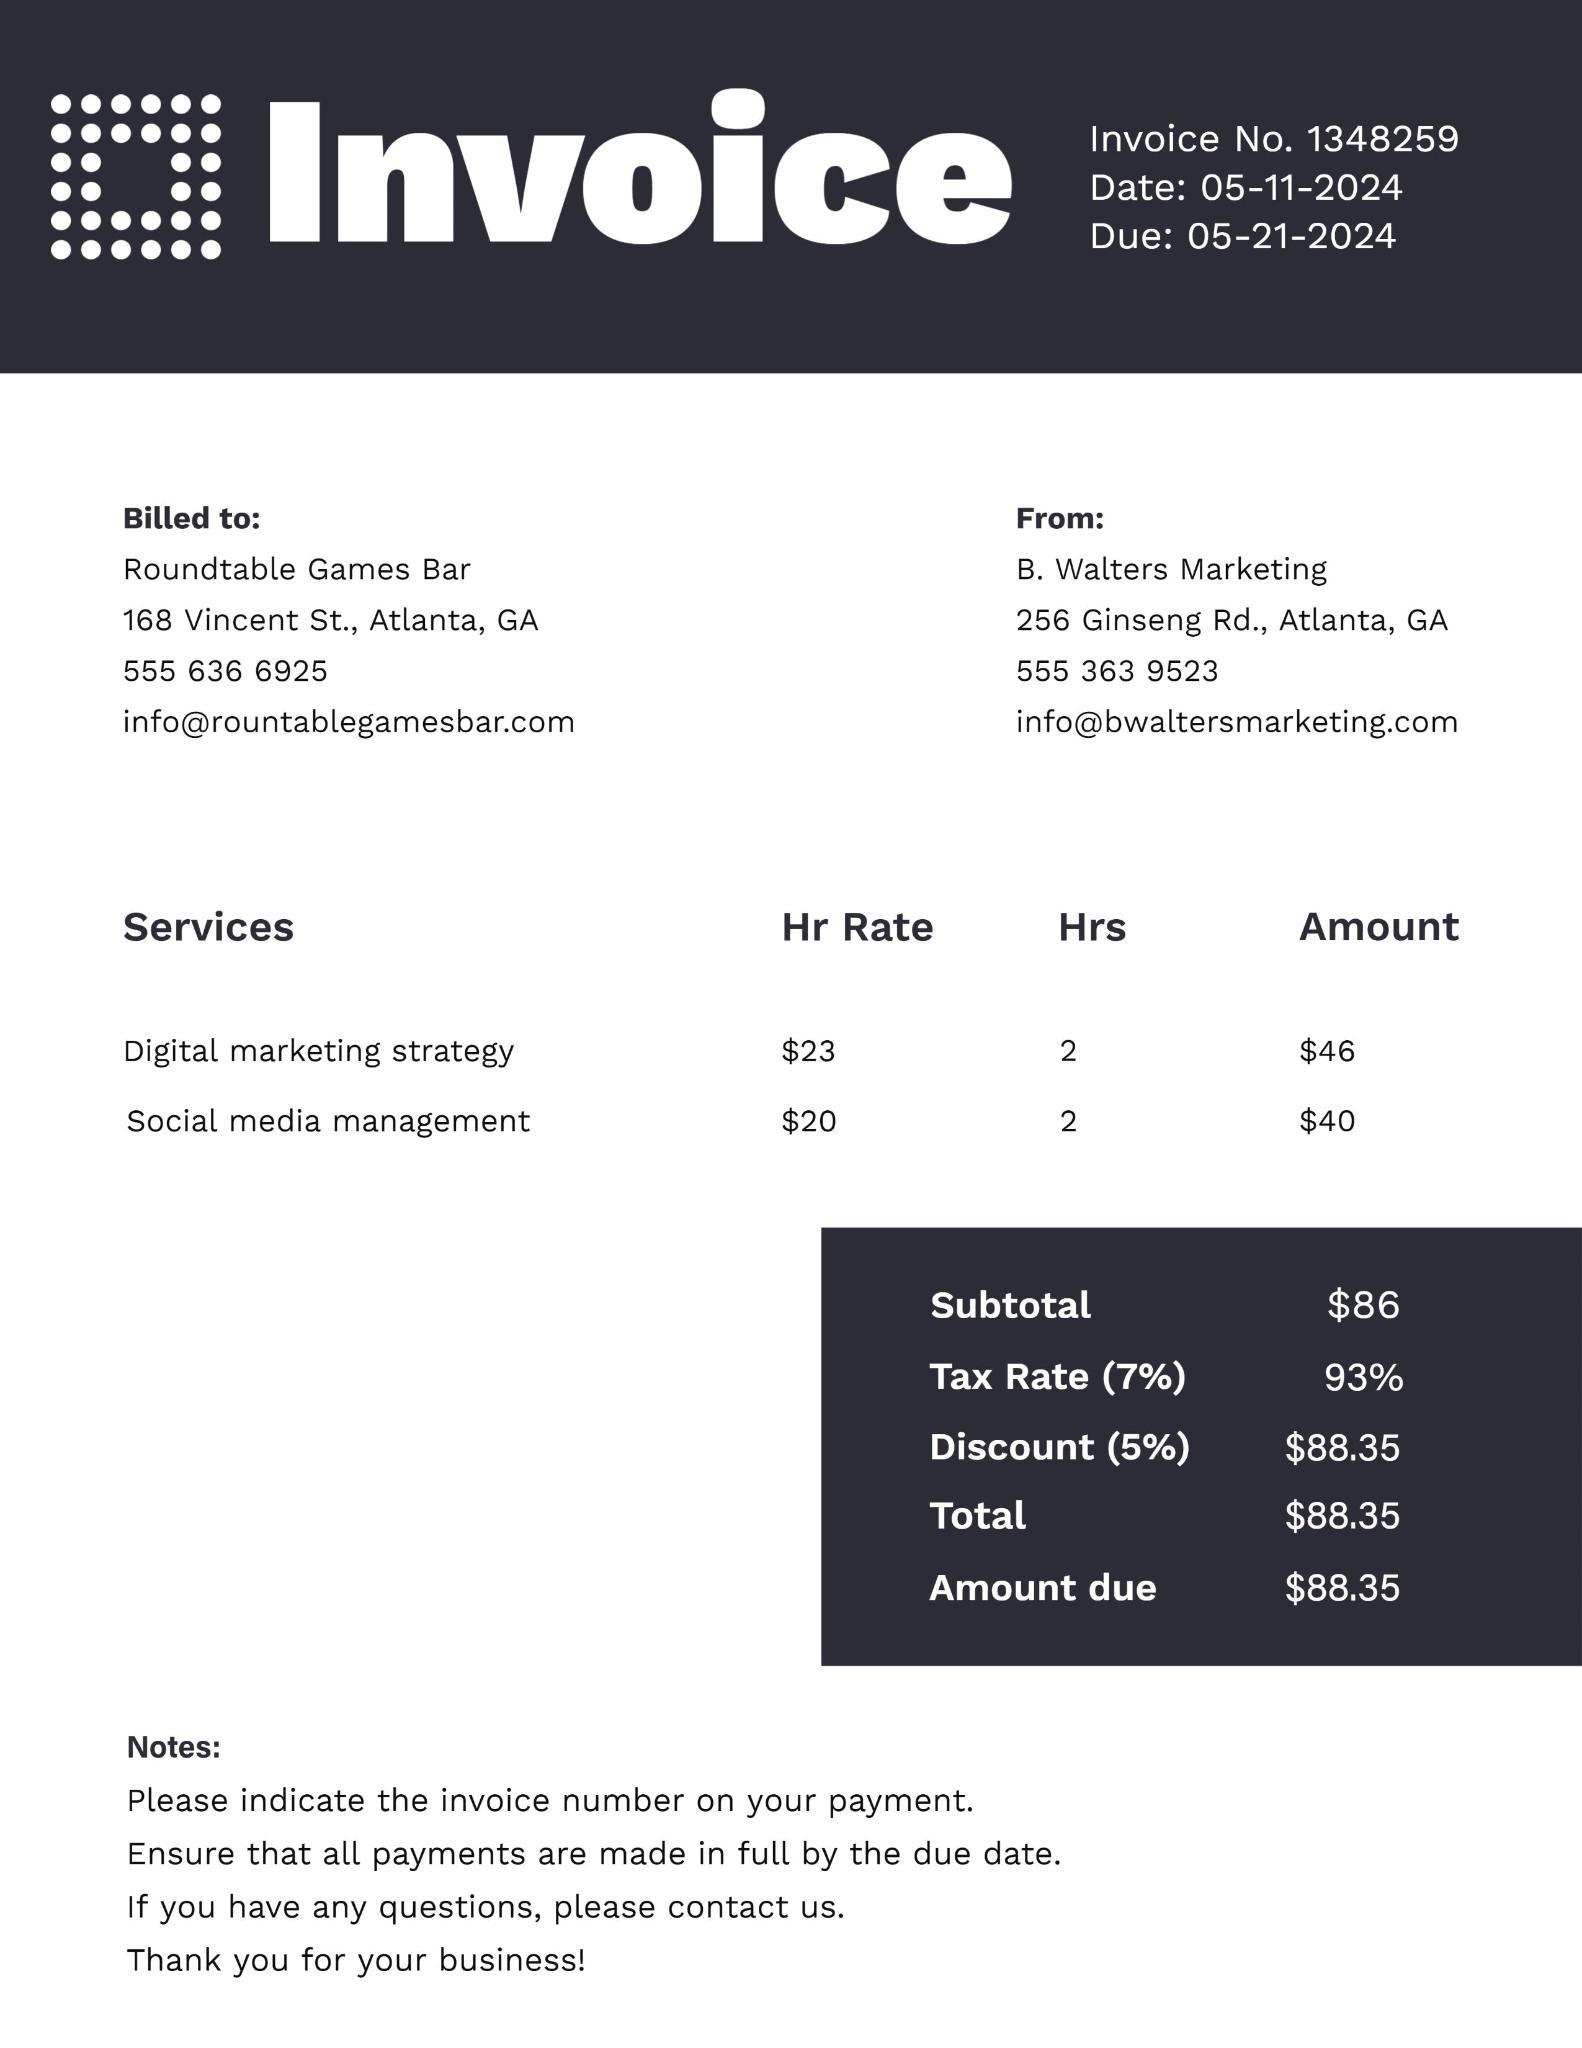ROI: (58, 854, 1511, 1178), (101, 1698, 1093, 2010), (902, 1262, 1456, 1638), (96, 448, 630, 782), (254, 61, 1025, 286), (982, 477, 1502, 784), (1062, 56, 1487, 276)
